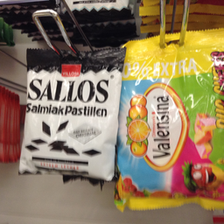candy: (123, 44, 223, 209), (24, 49, 120, 179)
